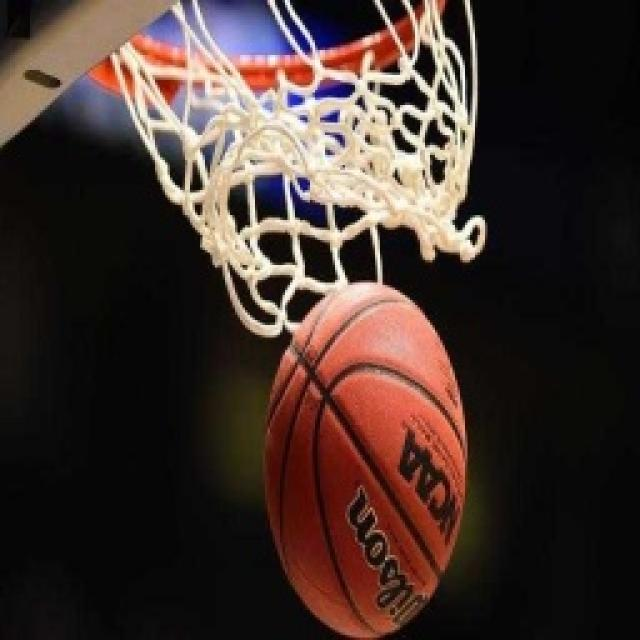rim: (257, 280, 476, 640)
